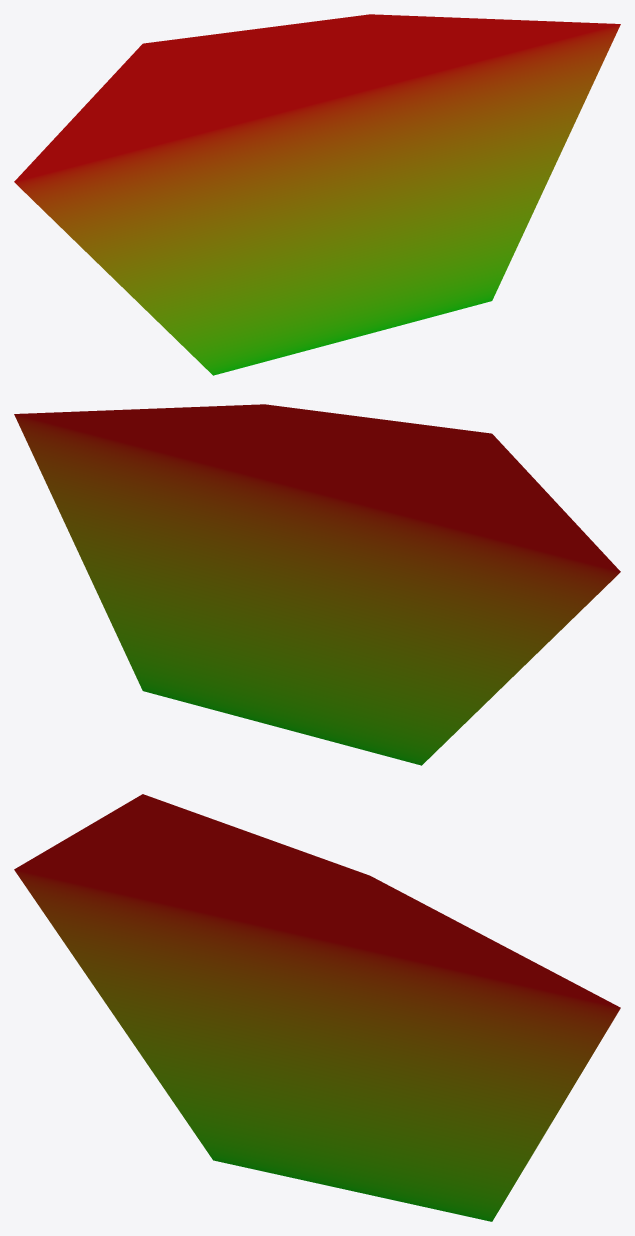
Rendered from Desert Cotton_LOD6_Var1_xeogciyqx.fbx.
3 renders of one model, top to bottom at view 1: azimuth 30°, elevation 25°; view 2: azimuth 150°, elevation 25°; view 3: azimuth 330°, elevation 25°, orthographic.
Visible parts, largest first — view 1: _kse2_Var1_LOD6; view 2: _kse2_Var1_LOD6; view 3: _kse2_Var1_LOD6.
Part boxes in pixels (<box>): _kse2_Var1_LOD6: <box>14,14,620,375</box>; _kse2_Var1_LOD6: <box>14,404,620,765</box>; _kse2_Var1_LOD6: <box>14,794,620,1221</box>.
Bounding box in the file's own units: 54.56 × 30 × 4.89e-06.
